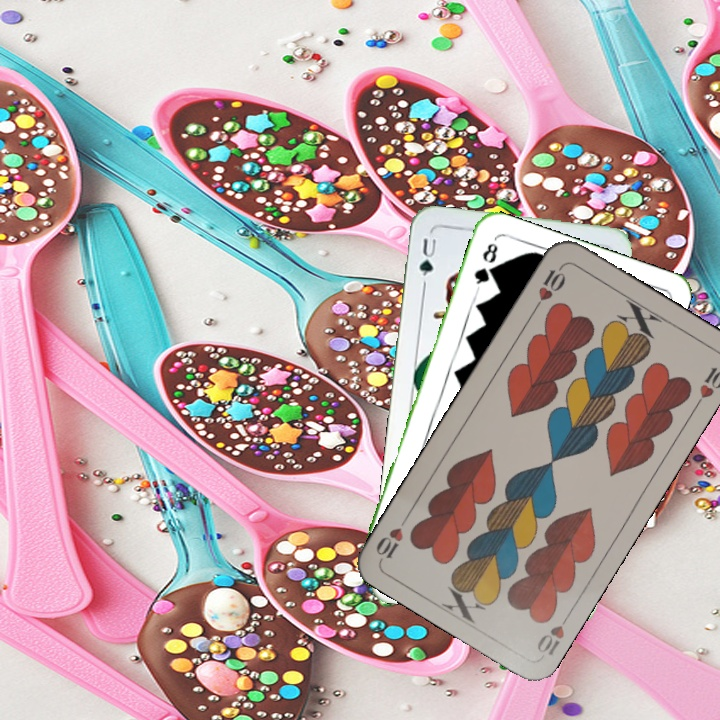G8: (470, 238, 501, 293)
GU: (415, 234, 440, 289)
H10: (529, 261, 569, 315), (532, 607, 574, 658)
